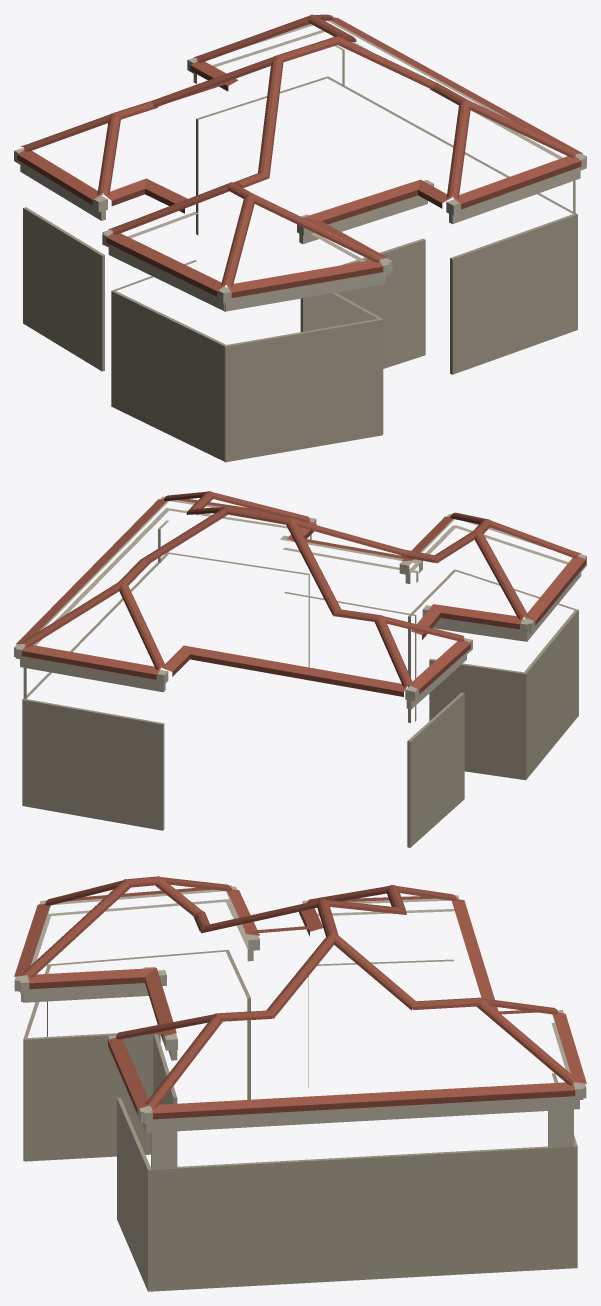
3 renders of one model, top to bottom at view 1: azimuth 30°, elevation 25°; view 2: azimuth 150°, elevation 25°; view 3: azimuth 270°, elevation 25°, orthographic. The views are drawn at different scales.
Parts seen in each view (by area): view 1: detail; view 2: detail; view 3: detail.
Boxes of the visible parts, x1,y1,x2,y2 form: detail: (14, 14, 586, 462); detail: (14, 491, 586, 847); detail: (14, 876, 586, 1291).
Size of the model in its own units: 12.6 by 7.23 by 13.38.
